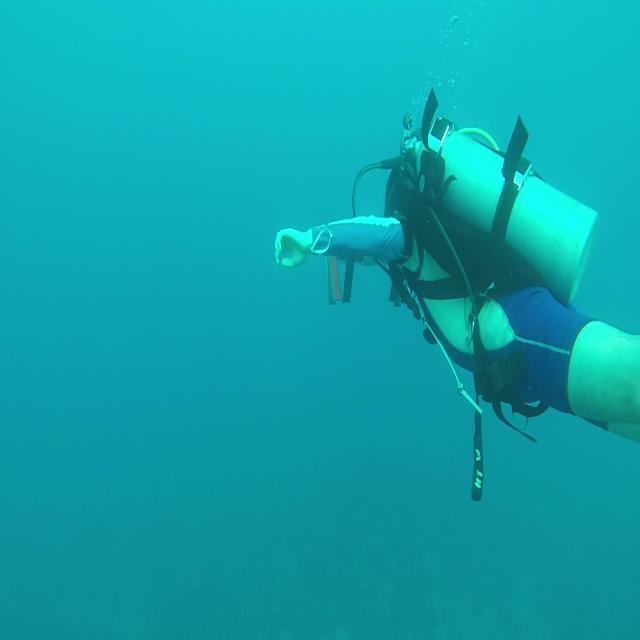human: (274, 94, 638, 499)
